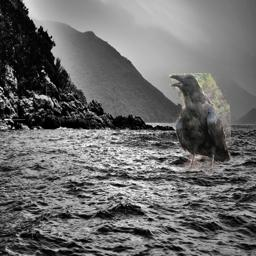Crow: (169, 73, 231, 172)
